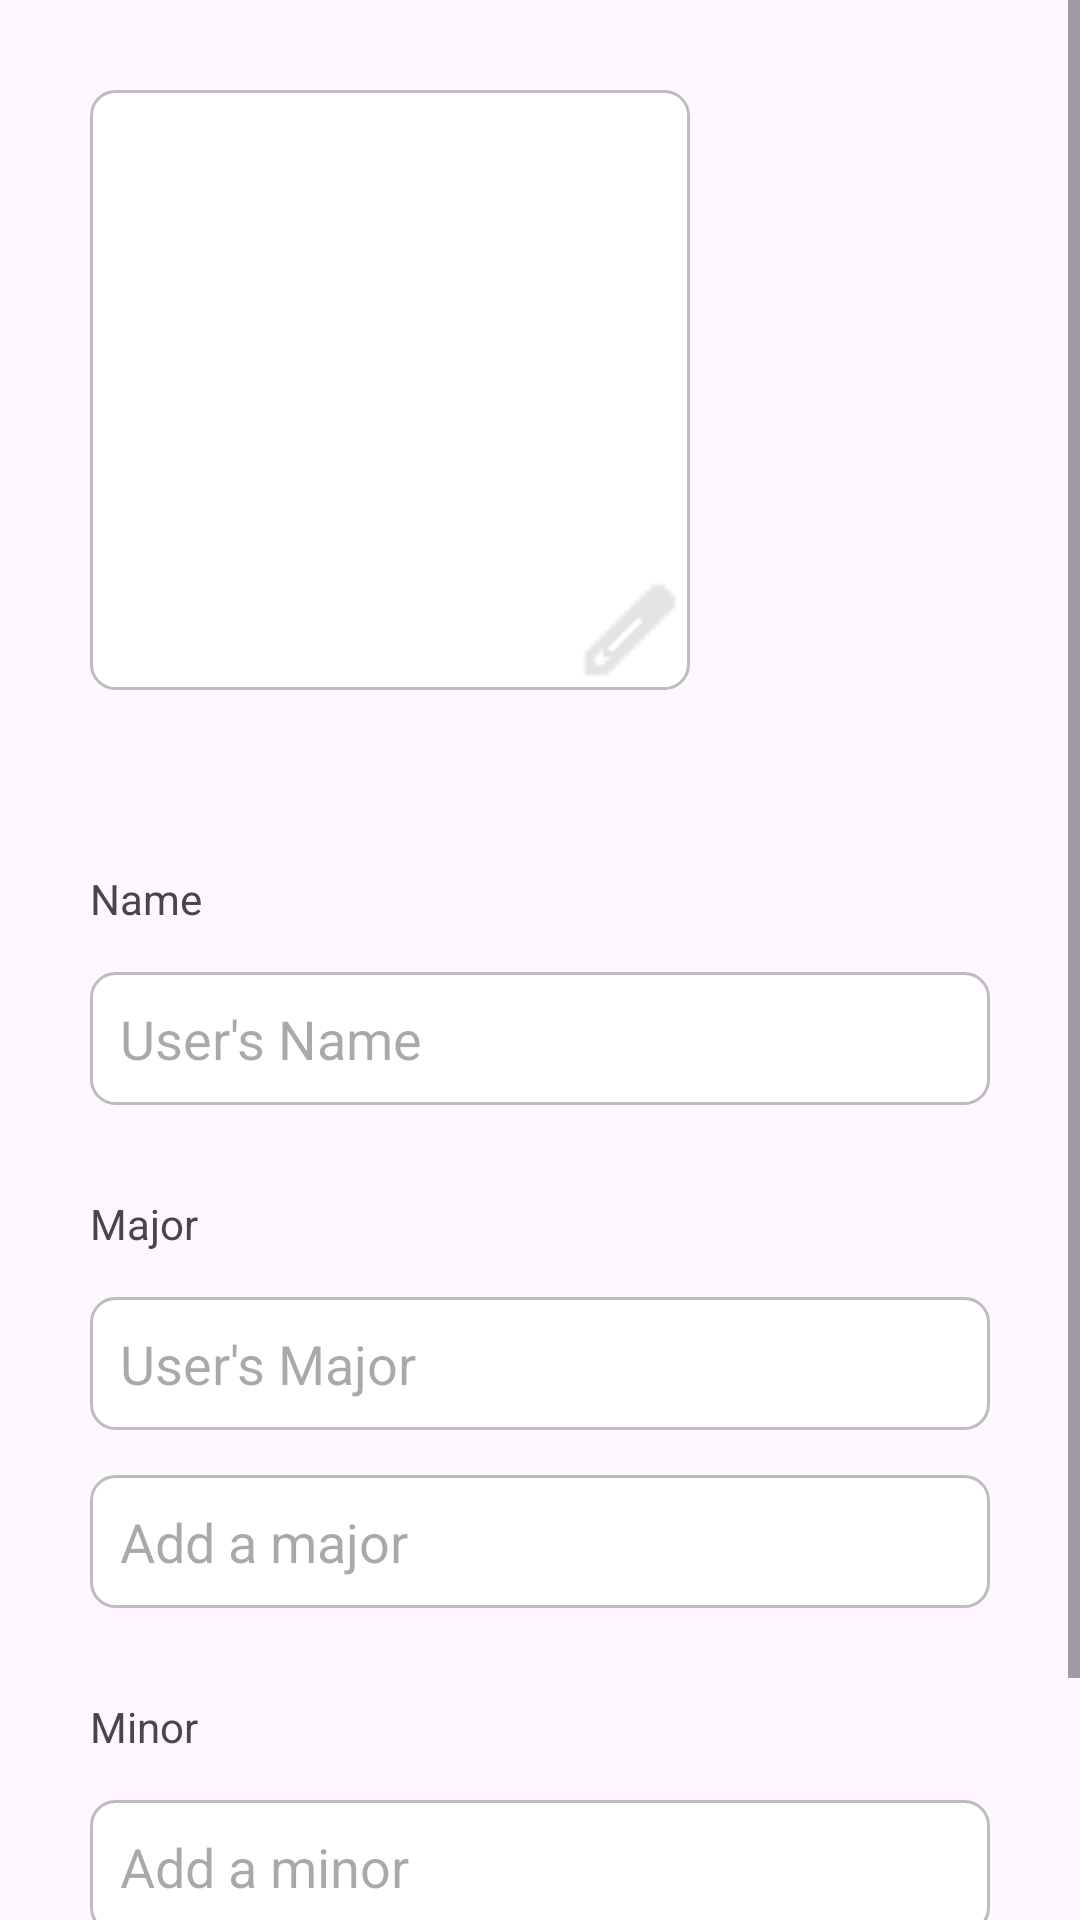

Icons on this 1080px×1920px Android screen, each with the point to tap as (x,y):
Change character: (630,630)
